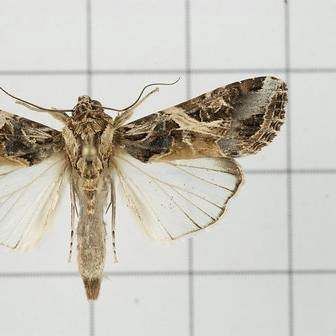Spodoptera litura: (1, 76, 288, 303)
